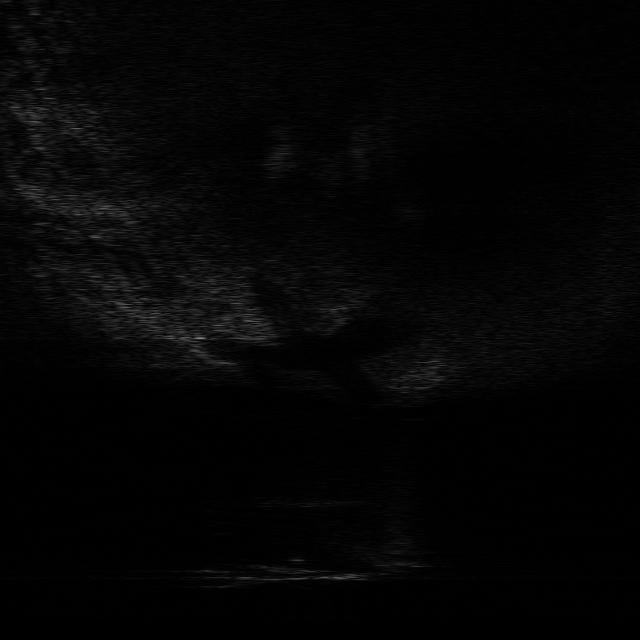plane: (195, 526, 430, 592)
